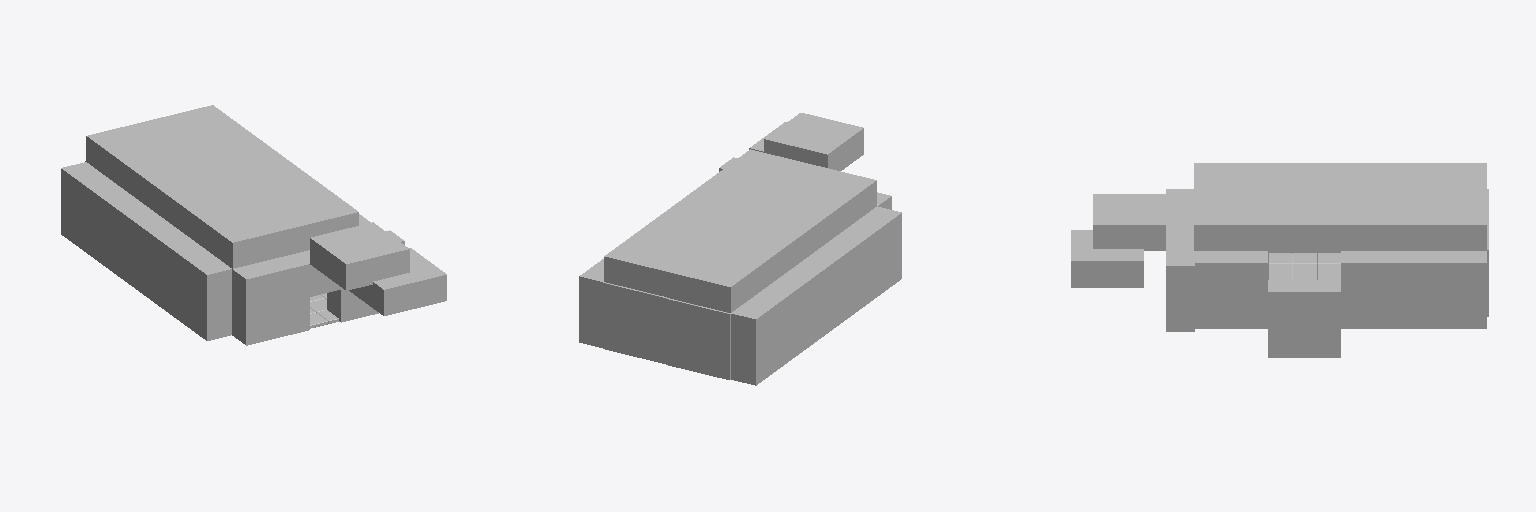
The model's file is WallHole.obj.
The picture shows the model from 3 angles: view 1: azimuth 30°, elevation 25°; view 2: azimuth 150°, elevation 25°; view 3: azimuth 270°, elevation 25°; orthographic projection.
Visible parts, largest first — view 1: stone_wall_stone_wall.001, stone_wall, stone_wall.004, stone_wall.013, stone_wall.002, stone_wall.001, stone_wall.016, stone_wall.003, stone_wall.008, stone_wall.005, stone_wall.007, stone_wall.006 (+3 smaller); view 2: stone_wall.003, stone_wall.007, stone_wall.016_stone_wall.017, stone_wall.017_stone_wall.018, stone_wall.013, stone_wall.011, stone_wall.001, stone_wall.002, stone_wall, stone_wall.004, stone_wall.006, stone_wall.005 (+4 smaller); view 3: stone_wall.012, stone_wall.015, stone_wall.013_stone_wall.016, stone_wall.014, stone_wall.016, stone_wall.009, stone_wall.011, stone_wall.010, stone_wall_stone_wall.001, stone_wall.013, stone_wall.008, stone_wall.004 (+3 smaller).
Boxes of the visible parts, x1,y1,x2,y2 form: stone_wall_stone_wall.001: [232, 230, 404, 345]; stone_wall: [171, 242, 231, 340]; stone_wall.004: [196, 201, 295, 268]; stone_wall.013: [310, 222, 409, 290]; stone_wall.002: [97, 189, 158, 286]; stone_wall.001: [134, 216, 194, 314]; stone_wall.016: [260, 185, 358, 252]; stone_wall.003: [61, 162, 122, 259]; stone_wall.008: [349, 248, 446, 315]; stone_wall.005: [159, 174, 258, 241]; stone_wall.007: [86, 120, 184, 187]; stone_wall.006: [123, 147, 221, 214]; stone_wall.003: [731, 287, 792, 385]; stone_wall.007: [667, 245, 766, 312]; stone_wall.016_stone_wall.017: [666, 298, 741, 379]; stone_wall.017_stone_wall.018: [603, 282, 666, 363]; stone_wall.013: [764, 113, 863, 170]; stone_wall.011: [604, 230, 702, 296]; stone_wall.001: [804, 233, 865, 331]; stone_wall.002: [768, 260, 828, 357]; stone_wall: [841, 206, 901, 304]; stone_wall.004: [777, 165, 876, 232]; stone_wall.006: [705, 218, 803, 286]; stone_wall.005: [741, 192, 839, 258]; stone_wall.012: [1194, 251, 1267, 328]; stone_wall.015: [1414, 251, 1486, 328]; stone_wall.013_stone_wall.016: [1341, 251, 1413, 328]; stone_wall.014: [1268, 280, 1340, 357]; stone_wall.016: [1194, 194, 1267, 250]; stone_wall.009: [1268, 194, 1340, 250]; stone_wall.011: [1414, 194, 1486, 250]; stone_wall.010: [1341, 194, 1413, 250]; stone_wall_stone_wall.001: [1166, 189, 1194, 331]; stone_wall.013: [1093, 194, 1165, 250]; stone_wall.008: [1071, 230, 1143, 287]; stone_wall.004: [1194, 163, 1267, 193].
Size of the model in its own units: 17.36 by 10.97 by 34.33.